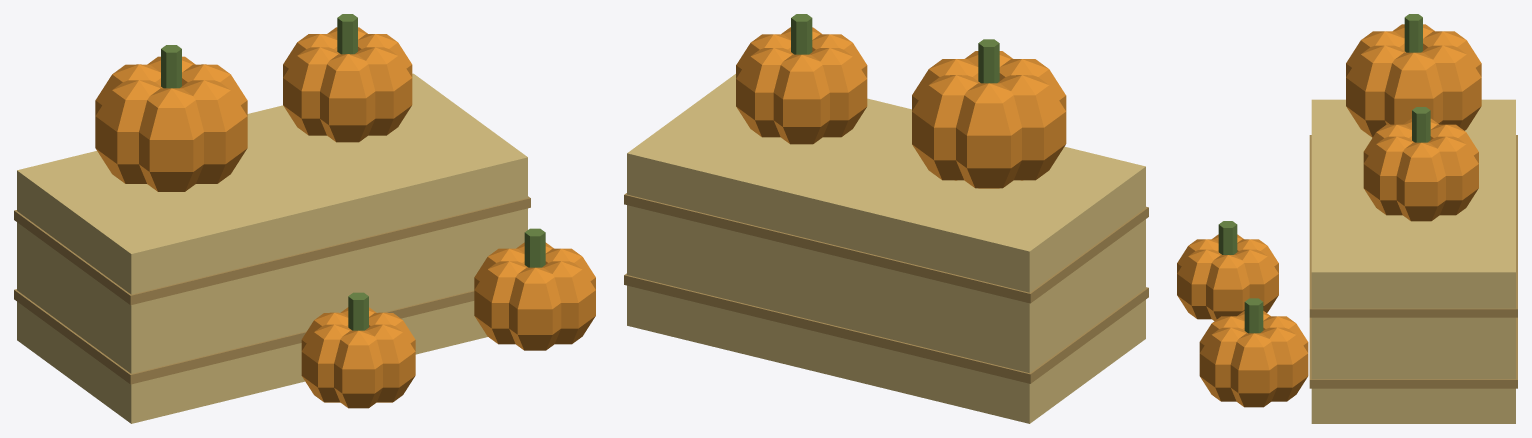
Rendered from pumpkins.glb.
3 views of the same model, side by side, from view 1: azimuth 30°, elevation 25°; view 2: azimuth 150°, elevation 25°; view 3: azimuth 270°, elevation 25° (orthographic). The views are drawn at different scales.
Visible parts, largest first — view 1: pumpkins; view 2: pumpkins; view 3: pumpkins.
Part boxes in pixels (<box>): pumpkins: <box>14,14,595,423</box>; pumpkins: <box>624,14,1148,423</box>; pumpkins: <box>1177,14,1517,423</box>.
Bounding box in the file's own units: 1.18 × 0.82 × 0.9169.
